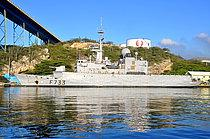MIL_Ship: (13, 23, 203, 87)
